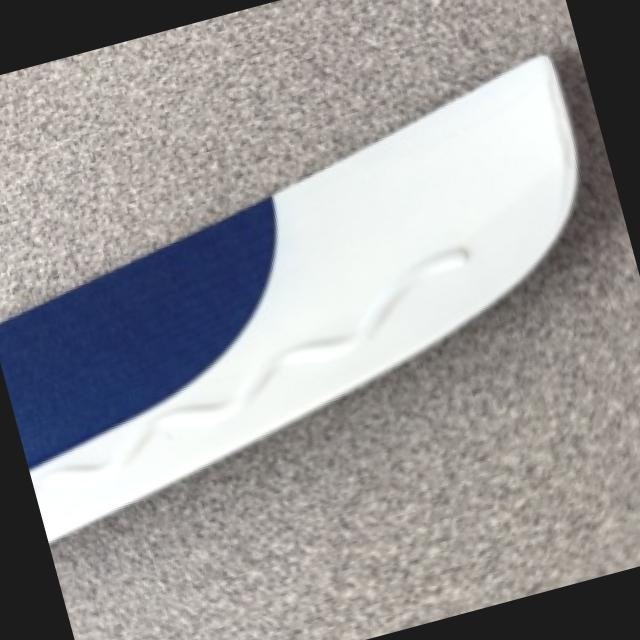healthy: (0, 55, 578, 538)
